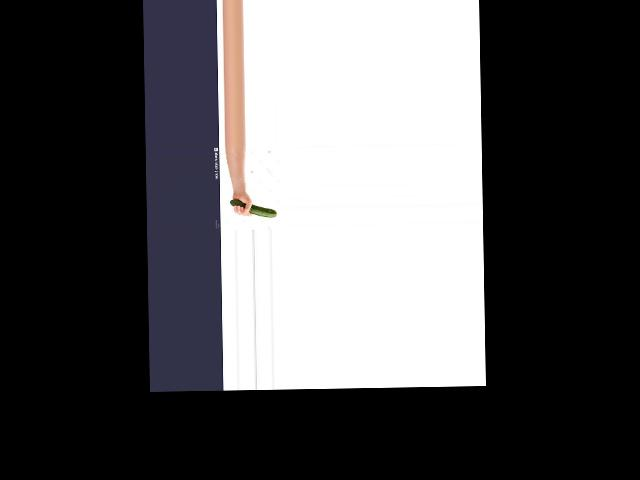cucumber: (229, 199, 276, 218)
